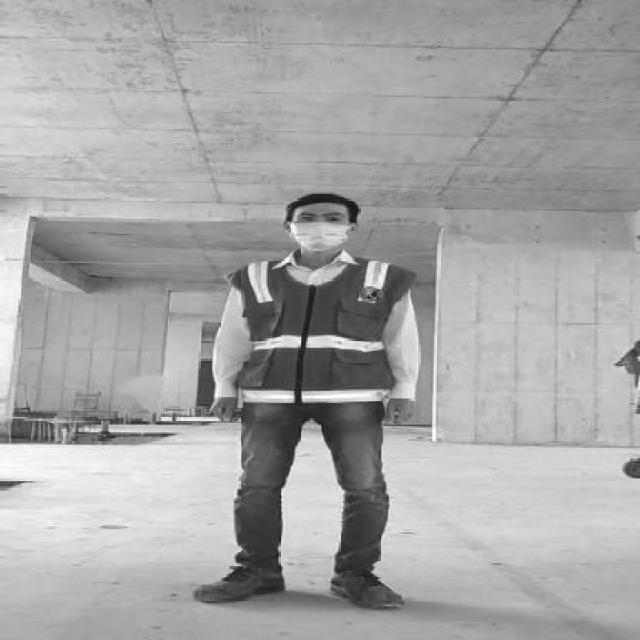face_mask: (285, 210, 352, 256)
hand_noglove: (374, 393, 424, 429), (204, 392, 244, 426)
head_nohelmet: (281, 188, 357, 215)
person: (205, 183, 424, 623)
shoes: (189, 551, 293, 611), (322, 558, 410, 618)
vest: (222, 252, 415, 410)
